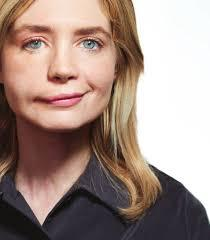strokeEyeMid: (13, 21, 112, 57)
strokeMouthMid: (30, 86, 96, 112)
